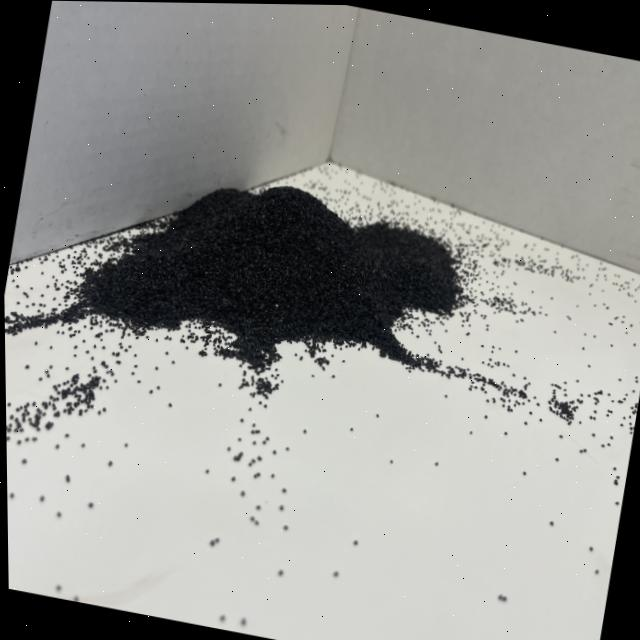Poppy Seeds: (66, 142, 483, 410)
